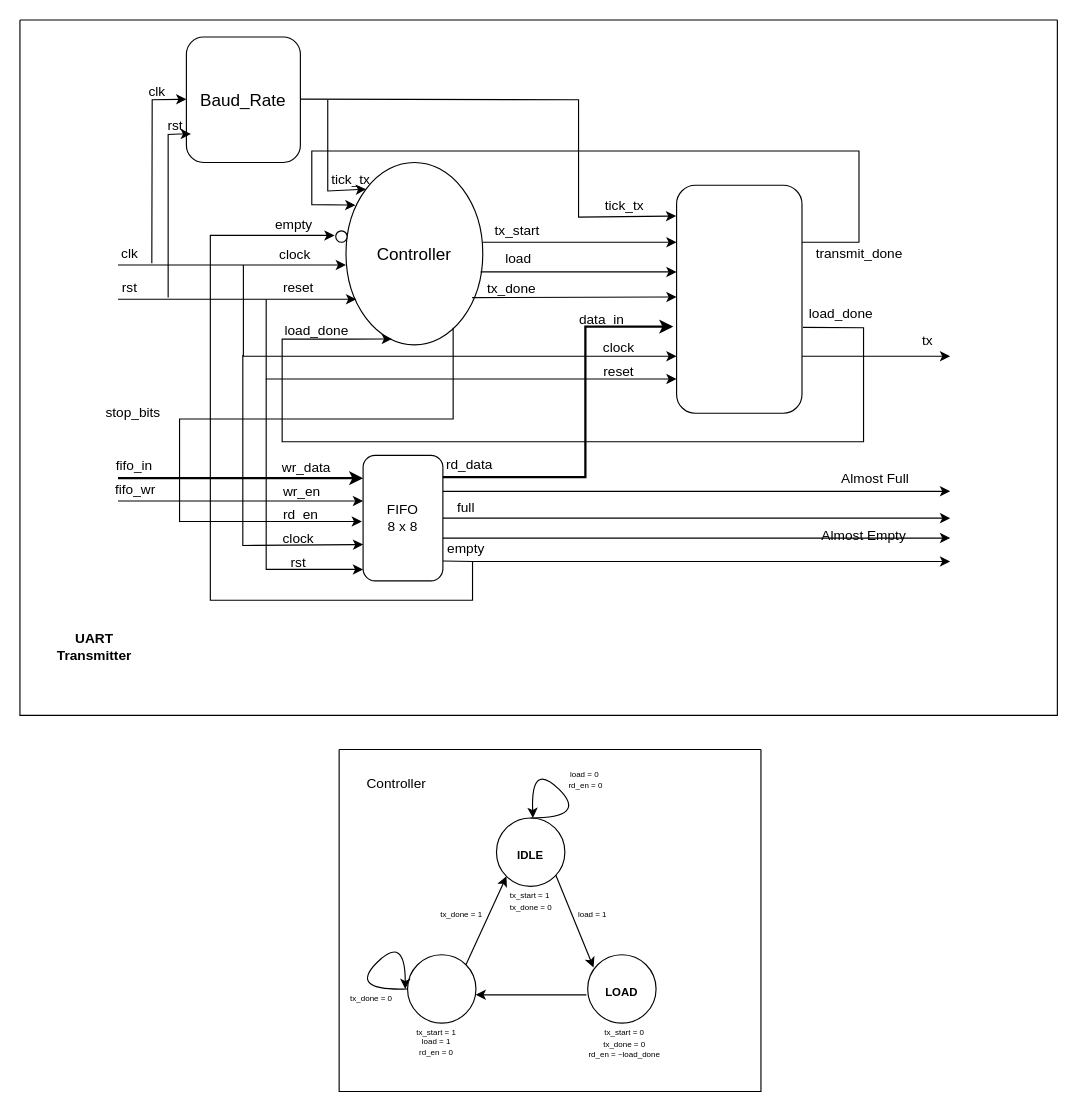
Image size: 1077x1112. Some labels were removed from this diagram. Each missing label, with the centre of its shape:
"Datapath" belongs at point 738,298.
"TRANSMIT" belongs at point 441,988.
